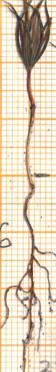flower: (0, 0, 56, 71)
root: (0, 174, 56, 371)
stem: (21, 71, 39, 176)
